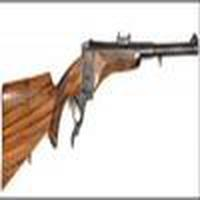gun: (1, 31, 200, 191)
